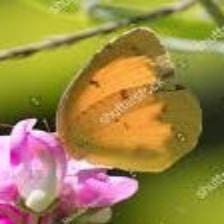butterfly: (57, 28, 203, 172)
